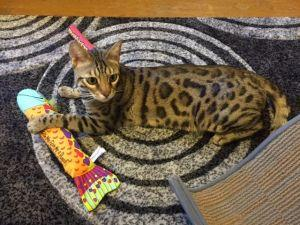bengal: (65, 38, 133, 107)
